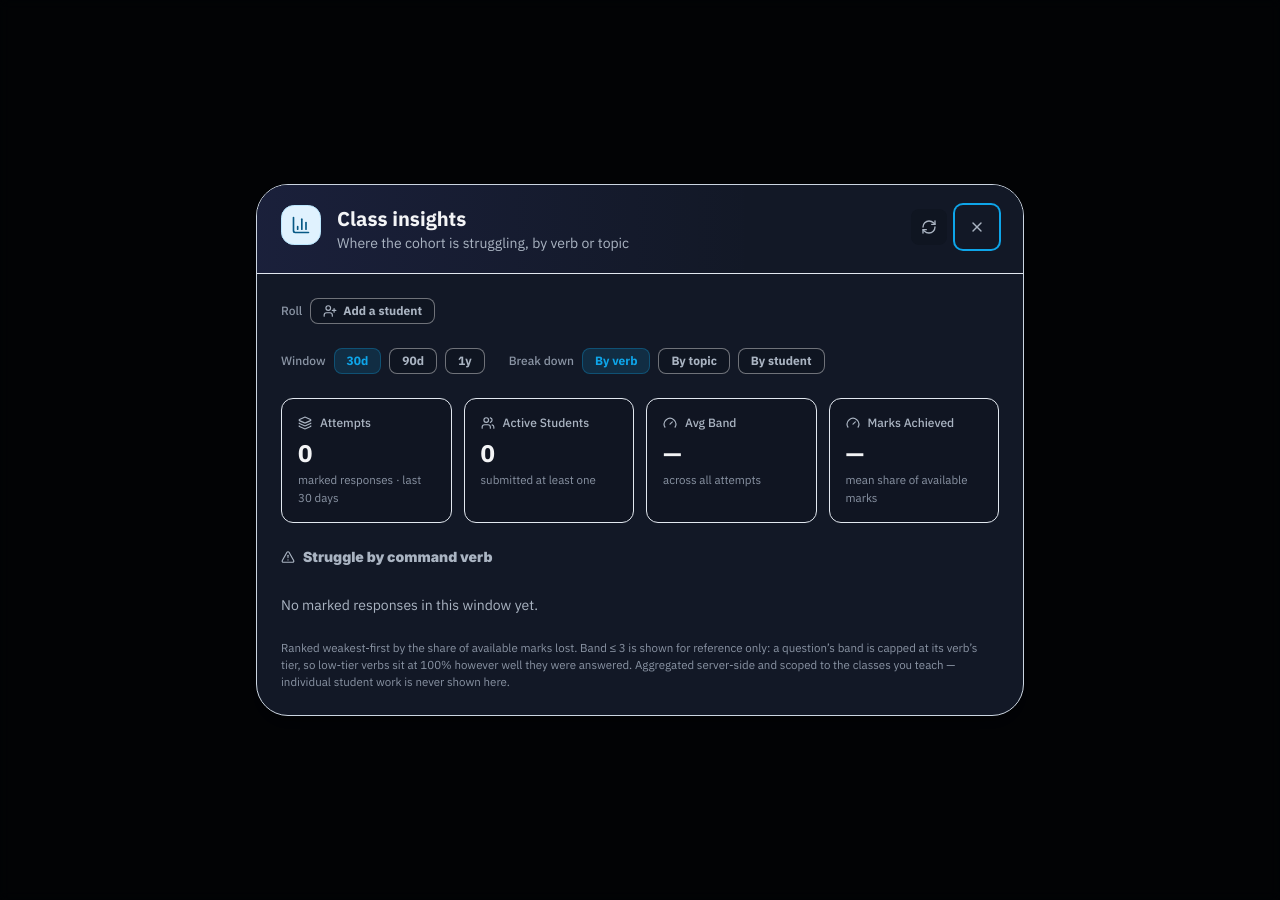
Class Insights — taking someone off the roll › shows who is actually on the roll, not just how many
Click the button "Add a student" at (373, 311), box [310,298,435,324]
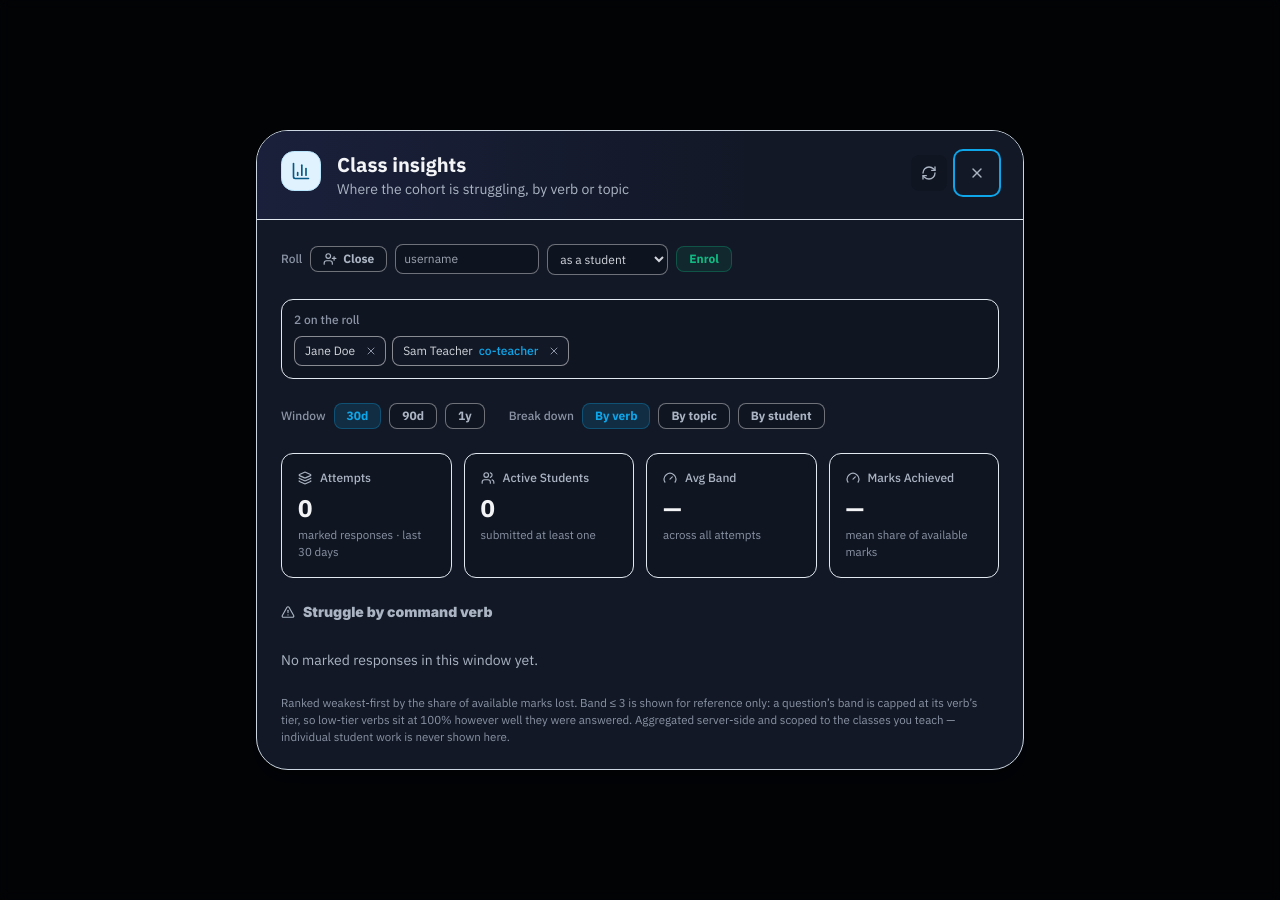
Expected: the text "Jane Doe" is shown, [305,343,355,359]
Expected: the text "Sam Teacher" is shown, [403,343,473,359]
Expected: the text "co-teacher" is shown, [479,343,538,359]
